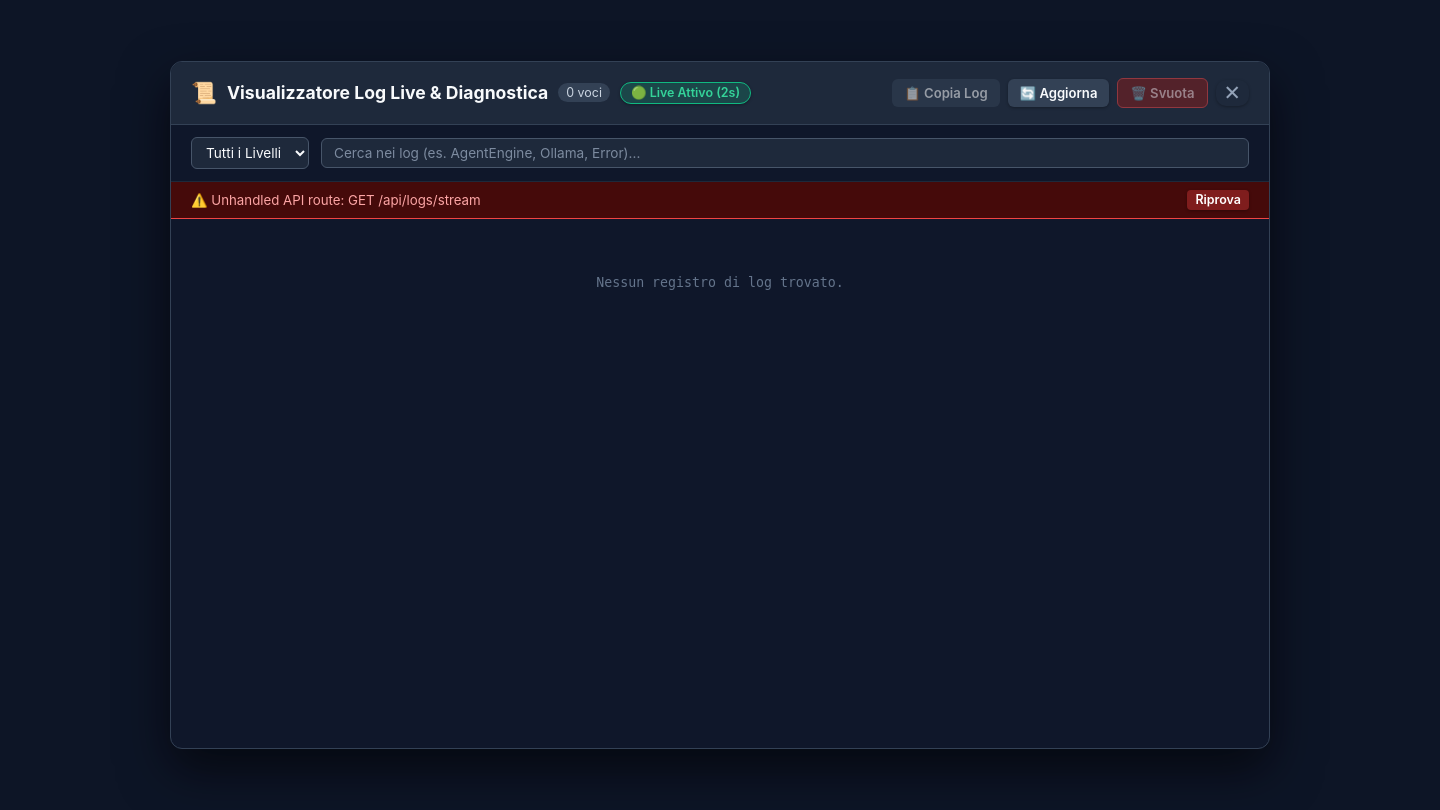
it: LogViewerModal › allows filtering logs by severity level
This screenshot has width=1440, height=810.
Select "Error" in the dropdown at (250, 153), box [191, 137, 309, 169]
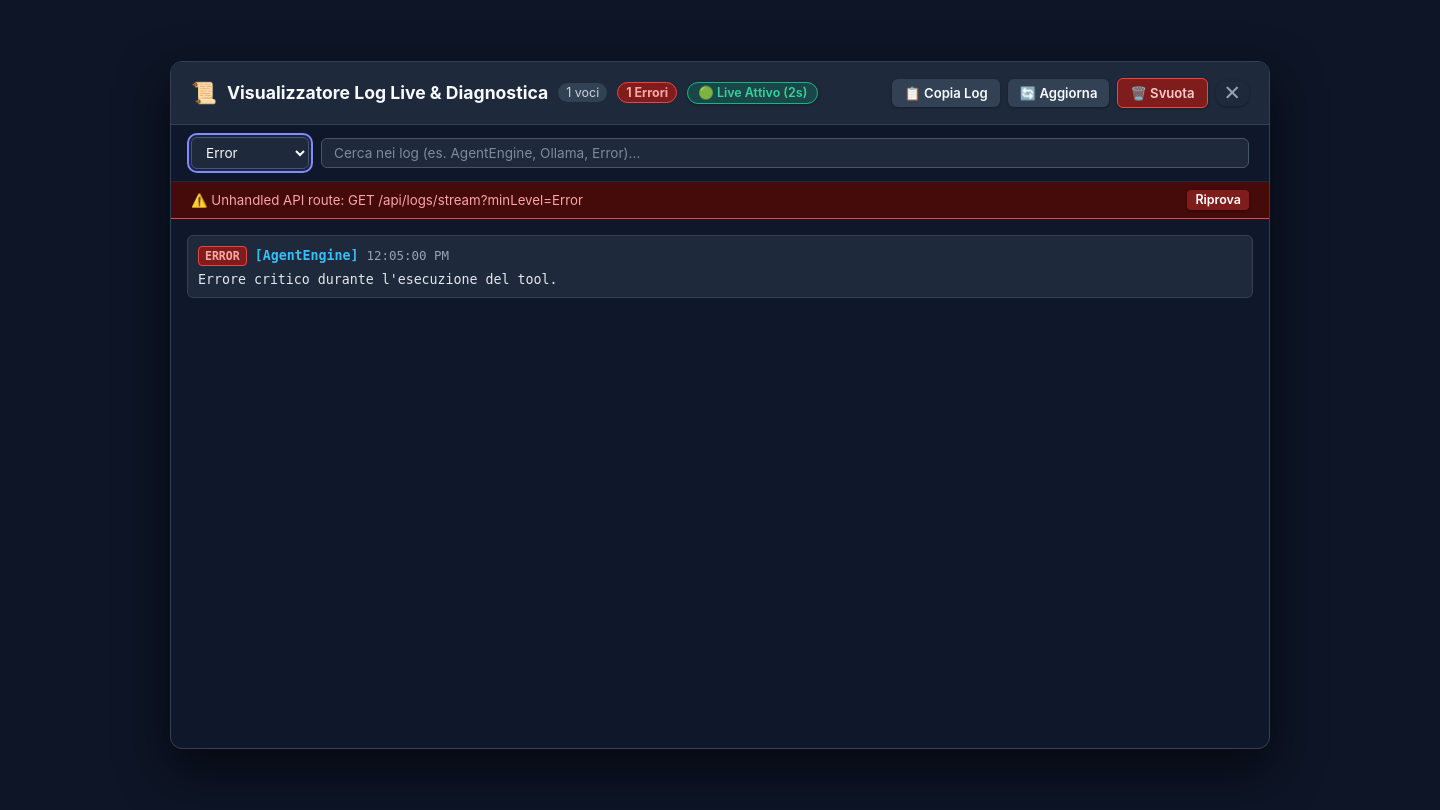
Now the text "Errore critico durante l'esecuzione del tool." is shown, box [198, 272, 557, 287]
